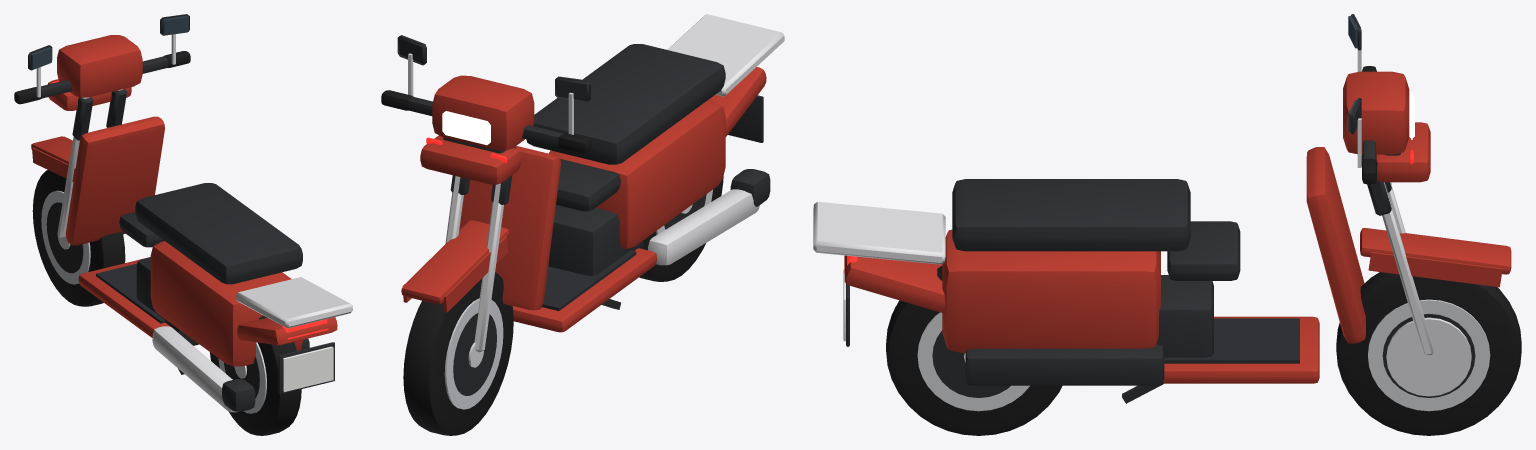
Rendered from motorcycle.glb.
3 renders of one model, left to right at view 1: azimuth 30°, elevation 25°; view 2: azimuth 150°, elevation 25°; view 3: azimuth 270°, elevation 25°, orthographic. The views are drawn at different scales.
Parts seen in each view (by area): view 1: CAR_motorcycle; view 2: CAR_motorcycle; view 3: CAR_motorcycle.
Boxes of the visible parts, x1=… form: CAR_motorcycle: x1=14, y1=14, x2=352, y2=435; CAR_motorcycle: x1=381, y1=14, x2=784, y2=435; CAR_motorcycle: x1=813, y1=14, x2=1521, y2=435.
Bounding box in the file's own units: 0.77 × 1.23 × 2.14.
